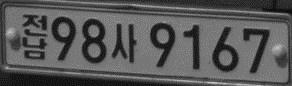1: (181, 24, 205, 70)
6: (211, 25, 239, 71)
7: (242, 28, 269, 73)
8: (80, 17, 107, 64)
9: (149, 21, 176, 67), (50, 15, 76, 62)
사: (111, 22, 137, 62)
전남_V: (22, 13, 47, 60)
